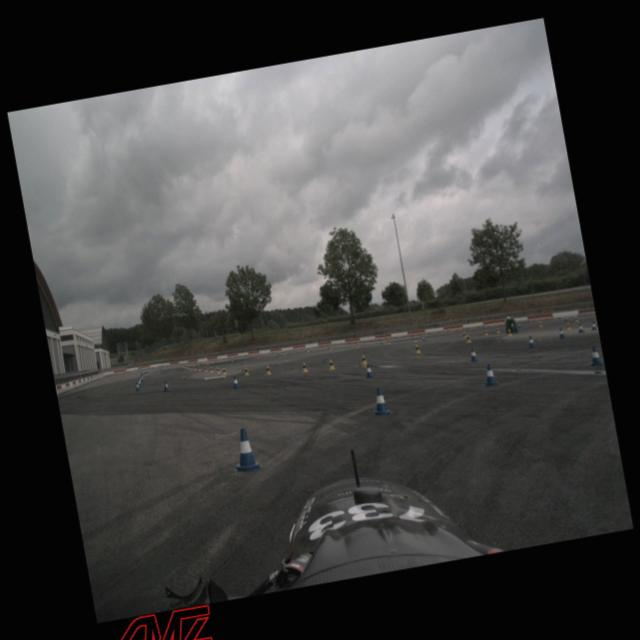blue_cone: (226, 425, 264, 475), (368, 384, 395, 418), (481, 362, 499, 387), (586, 343, 604, 366), (468, 346, 478, 362), (364, 362, 374, 378), (230, 374, 240, 388), (526, 334, 536, 348), (557, 326, 566, 338), (576, 322, 585, 334), (162, 380, 170, 392), (590, 320, 597, 330), (134, 381, 140, 392)
yellow_cone: (358, 353, 368, 367), (463, 332, 472, 343), (413, 342, 421, 354), (300, 361, 308, 373), (327, 358, 335, 369), (264, 364, 272, 375), (242, 366, 249, 375), (221, 366, 227, 376), (506, 328, 512, 337), (214, 366, 220, 374), (573, 315, 579, 323), (565, 322, 571, 329), (209, 366, 214, 374), (538, 320, 542, 328), (203, 364, 207, 372)
